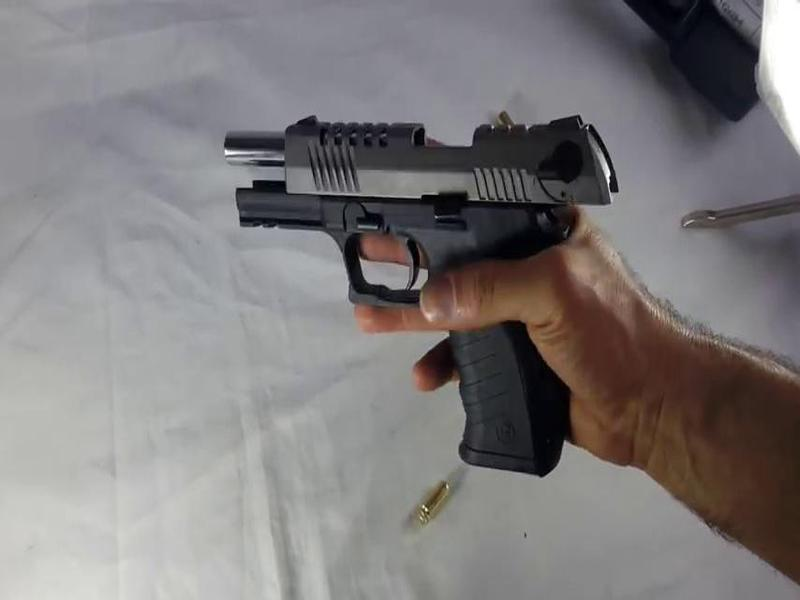Pistola: (188, 107, 663, 481)
